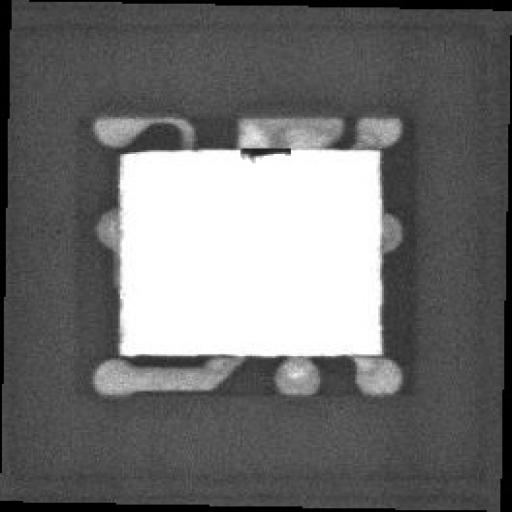DIE_BROKEN: (235, 141, 293, 160)
